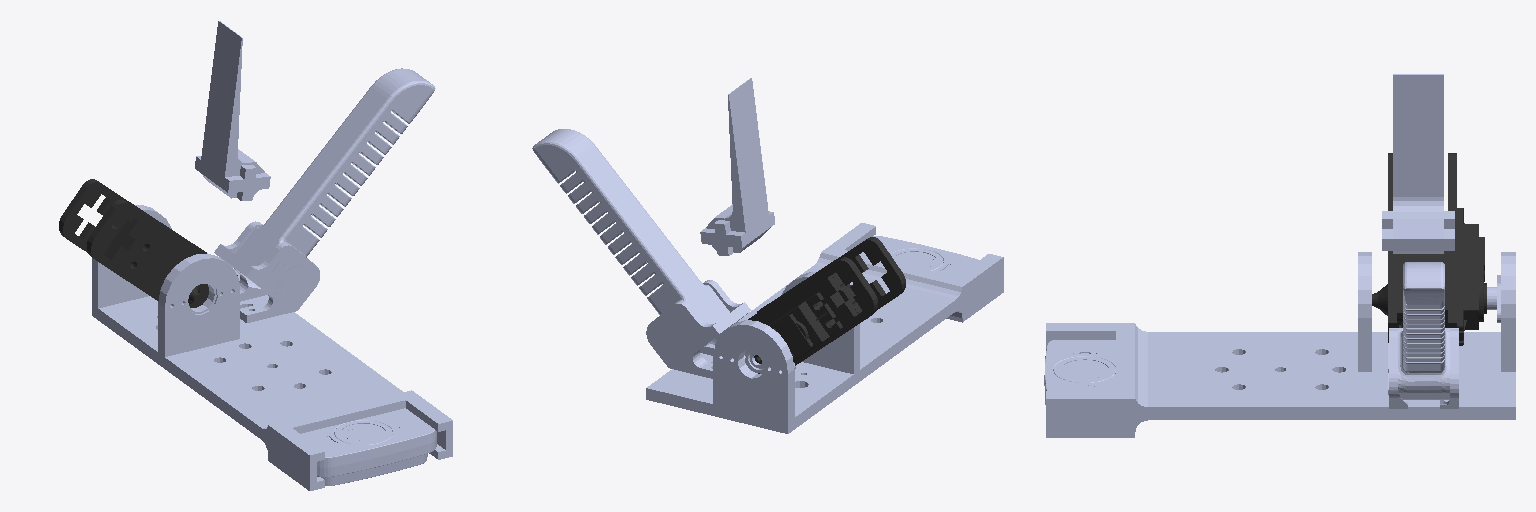
The robot description file, URDF, robot "soft hybrid gripper URDF":
<?xml version="1.0" encoding="utf-8"?>
<!-- This URDF was automatically created by SolidWorks to URDF Exporter! Originally created by [author] ([email redacted])
     Commit Version: 1.5.1-0-g916b5db  Build Version: 1.5.7152.31018
     For more information, please see http://wiki.ros.org/sw_urdf_exporter -->
<robot
  name="soft hybrid gripper URDF">
  <link
    name="base_link1">
    <inertial>
      <origin
        xyz="0.000176879397903153 0.0171745476796605 0.00798016750513526"
        rpy="0 0 0" />
      <mass
        value="0.117842634947847" />
      <inertia
        ixx="0.000366414508469255"
        ixy="1.72345228700625E-05"
        ixz="6.18123429105568E-06"
        iyy="6.80036131268536E-05"
        iyz="-2.47128778299121E-05"
        izz="0.000409756967424389" />
    </inertial>
    <visual>
      <origin
        xyz="0 0 0"
        rpy="0 0 0" />
      <geometry>
        <mesh
          filename="collision/base_link_cam.STL" />
      </geometry>
      <material
        name="">
        <color
          rgba="0.792156862745098 0.819607843137255 0.933333333333333 1" />
      </material>
    </visual>
    <collision>
      <origin
        xyz="0 0 0"
        rpy="0 0 0" />
      <geometry>
        <mesh
          filename="collision/base_link_cam.STL" />
      </geometry>
    </collision>
  </link>
  <link
    name="rigid_link1">
    <inertial>
      <origin
        xyz="0.00246082393825808 0.00389924820387103 0.0131191901389871"
        rpy="0 0 0" />
      <mass
        value="0.0445322519868914" />
      <inertia
        ixx="1.52433784006711E-05"
        ixy="5.80078149789572E-09"
        ixz="-1.18934068666226E-06"
        iyy="1.3594081592835E-05"
        iyz="6.27237025112029E-08"
        izz="6.46351202019257E-06" />
    </inertial>
    <visual>
      <origin
        xyz="0 0 0"
        rpy="0 0 0" />
      <geometry>
        <mesh
          filename="collision/rigid_link.STL" />
      </geometry>
      <material
        name="">
        <color
          rgba="0.250980392156863 0.250980392156863 0.250980392156863 1" />
      </material>
    </visual>
    <collision>
      <origin
        xyz="0 0 0"
        rpy="0 0 0" />
      <geometry>
        <mesh
          filename="collision/rigid_link.STL" />
      </geometry>
    </collision>
  </link>
  <joint
    name="rigid_rev_joint1"
    type="continuous">
    <origin
      xyz="-0.018 0.0604 0.031"
      rpy="0 0 0" />
    <parent
      link="base_link1" />
    <child
      link="rigid_link1" />
    <axis
      xyz="0 -1 0" />
    <limit
      lower="-3.1415926"
      upper="3.1415926"
      effort="0"
      velocity="0" />
  </joint>
  <link
    name="rigid_tip_link1">
    <inertial>
      <origin
        xyz="0.00774095772540574 -0.000850000000000101 -0.0611318896625747"
        rpy="0 0 0" />
      <mass
        value="0.0134476259243688" />
      <inertia
        ixx="4.91541805903652E-06"
        ixy="-3.45478559862873E-21"
        ixz="8.62881671033877E-07"
        iyy="4.67899851023964E-06"
        iyz="-2.20620740059224E-20"
        izz="1.28227238645747E-06" />
    </inertial>
    <visual>
      <origin
        xyz="0 0 0"
        rpy="0 0 0" />
      <geometry>
        <mesh
          filename="collision/rigid_tip_link.STL" />
      </geometry>
      <material
        name="">
        <color
          rgba="0.792156862745098 0.819607843137255 0.933333333333333 1" />
      </material>
    </visual>
    <collision>
      <origin
        xyz="0 0 0"
        rpy="0 0 0" />
      <geometry>
        <mesh
          filename="collision/rigid_tip_link.STL" />
      </geometry>
    </collision>
  </link>
  <joint
    name="rigid_tip_joint1"
    type="fixed">
    <origin
      xyz="0.029389 -0.00085 0.11906"
      rpy="0 -0.13252 -3.1416" />
    <parent
      link="rigid_link1" />
    <child
      link="rigid_tip_link1" />
    <axis
      xyz="0 1 0" />
  </joint>
  <link
    name="soft_tip_link1">
    <inertial>
      <origin
        xyz="-0.0672819098084754 -5.77278610192078E-08 -0.00123656065002749"
        rpy="0 0 0" />
      <mass
        value="0.0267549348618611" />
      <inertia
        ixx="2.96189216662522E-06"
        ixy="6.273448191828E-11"
        ixz="-5.21931039474125E-06"
        iyy="3.93840137119762E-05"
        iyz="-4.51104709728545E-12"
        izz="3.84440209403678E-05" />
    </inertial>
    <visual>
      <origin
        xyz="0 0 0"
        rpy="0 0 0" />
      <geometry>
        <mesh
          filename="collision/soft_tip_link.STL" />
      </geometry>
      <material
        name="">
        <color
          rgba="0.792156862745098 0.819607843137255 0.933333333333333 1" />
      </material>
    </visual>
    <collision>
      <origin
        xyz="0 0 0"
        rpy="0 0 0" />
      <geometry>
        <mesh
          filename="collision/soft_tip_link.STL" />
      </geometry>
    </collision>
  </link>
  <joint
    name="soft_tip_joint1"
    type="fixed">
    <origin
      xyz="0.11681 0.061 0.098742"
      rpy="0 -0.66549 0" />
    <parent
      link="base_link1" />
    <child
      link="soft_tip_link1" />
    <axis
      xyz="0 0 0" />
  </joint>
</robot>

--- Render facts (derived) ---
Views: 3 orthographic renders of the robot side by side, from view 1: azimuth 30°, elevation 25°; view 2: azimuth 150°, elevation 25°; view 3: azimuth 270°, elevation 25°.
Model soft hybrid gripper URDF with 4 links and 3 joints (1 continuous, 2 fixed), rooted at base_link1, posed all joints at 0.
Links seen in each view (by area): view 1: base_link1, soft_tip_link1, rigid_link1, rigid_tip_link1; view 2: base_link1, soft_tip_link1, rigid_link1, rigid_tip_link1; view 3: base_link1, rigid_tip_link1, rigid_link1, soft_tip_link1.
Boxes of the visible links, box(x1,y1,x2,y2) form: base_link1: box(92, 205, 452, 490); soft_tip_link1: box(235, 68, 435, 292); rigid_link1: box(59, 179, 237, 307); rigid_tip_link1: box(195, 21, 270, 200); base_link1: box(646, 223, 1003, 433); soft_tip_link1: box(532, 129, 729, 323); rigid_link1: box(748, 237, 905, 373); rigid_tip_link1: box(700, 78, 774, 255); base_link1: box(1044, 252, 1515, 437); rigid_tip_link1: box(1382, 74, 1454, 253); rigid_link1: box(1372, 153, 1486, 345); soft_tip_link1: box(1398, 262, 1449, 399).
Bounding box of the posed robot: 0.1867 × 0.2006 × 0.1614 m (x, y, z).
4 mesh visuals loaded from 4 distinct referenced files (4 binary STL).